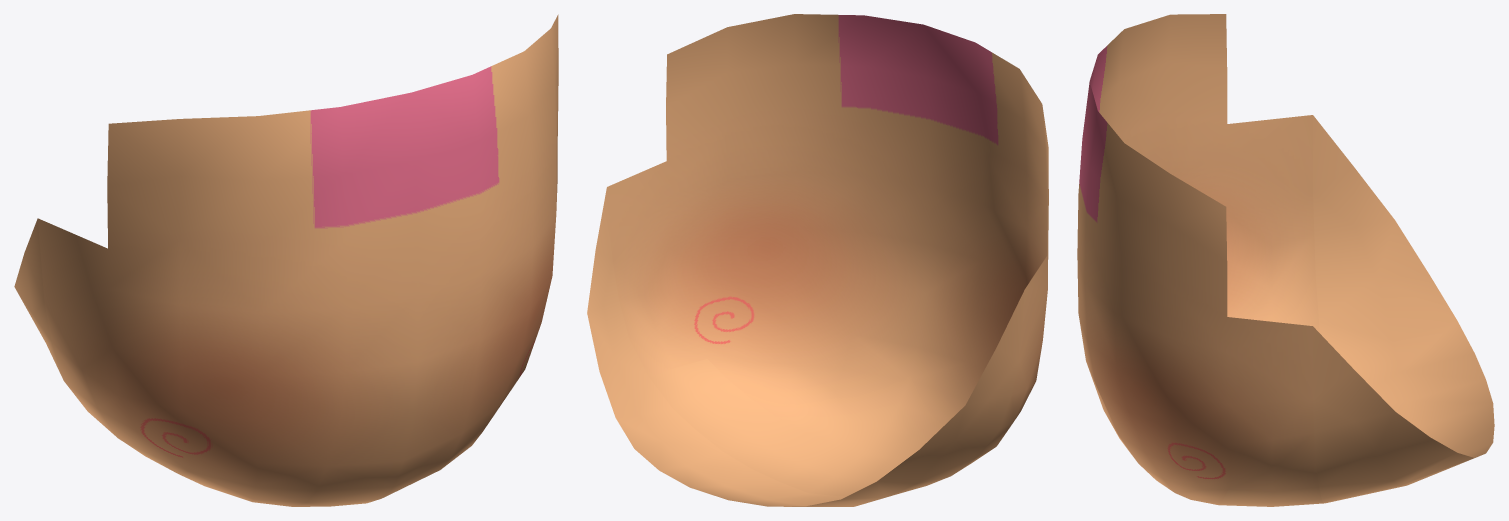
The model's file is Faceline_9.glb.
3 renders of one model, left to right at view 1: azimuth 30°, elevation 25°; view 2: azimuth 150°, elevation 25°; view 3: azimuth 270°, elevation 25°, orthographic. The views are drawn at different scales.
Parts seen in each view (by area): view 1: Head09; view 2: Head09; view 3: Head09.
Boxes of the visible parts, bbox=[...] form: Head09: bbox=[14, 14, 558, 506]; Head09: bbox=[587, 14, 1048, 506]; Head09: bbox=[1077, 14, 1494, 506].
Size of the model in its own units: 52.6 by 46.58 by 43.9.
Materials: 1 (1 with a texture image).
